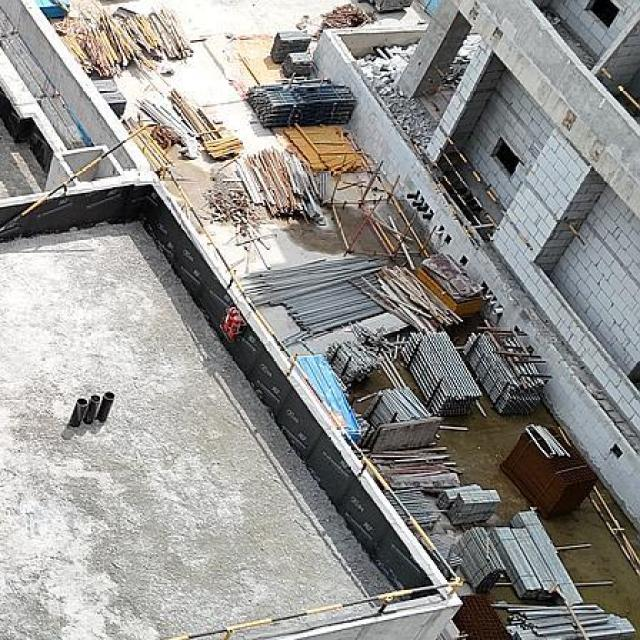Guardrail: (162, 164, 464, 640), (0, 122, 150, 232), (433, 125, 534, 252), (600, 67, 640, 113), (422, 65, 457, 116), (565, 222, 586, 247)
